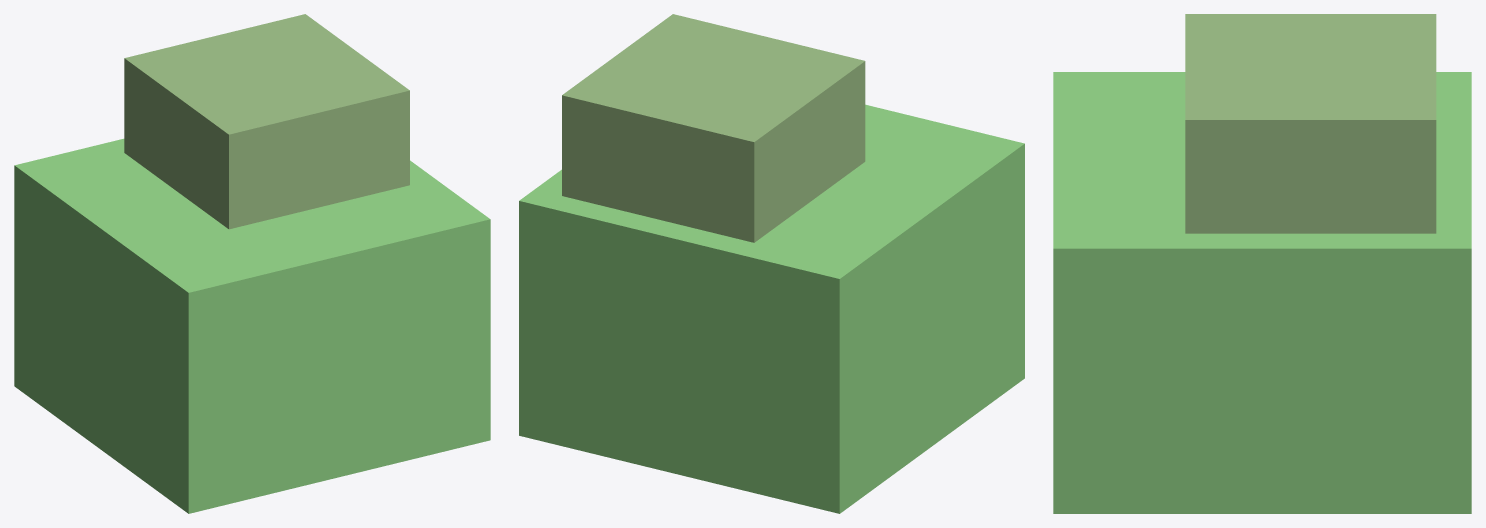
Rendered from Prop_Dress_AMF_Bush_V6.glb.
3 views of the same model, side by side, from view 1: azimuth 30°, elevation 25°; view 2: azimuth 150°, elevation 25°; view 3: azimuth 270°, elevation 25° (orthographic). The views are drawn at different scales.
Visible parts, largest first — view 1: Prop_Dress_AMF_Bush_V6; view 2: Prop_Dress_AMF_Bush_V6; view 3: Prop_Dress_AMF_Bush_V6.
Part boxes in pixels (box(x1,y1,x2,y2)): Prop_Dress_AMF_Bush_V6: box(14, 14, 490, 513); Prop_Dress_AMF_Bush_V6: box(519, 14, 1024, 513); Prop_Dress_AMF_Bush_V6: box(1053, 14, 1471, 513).
Bounding box in the file's own units: 0.8671 × 0.8671 × 0.8671.
